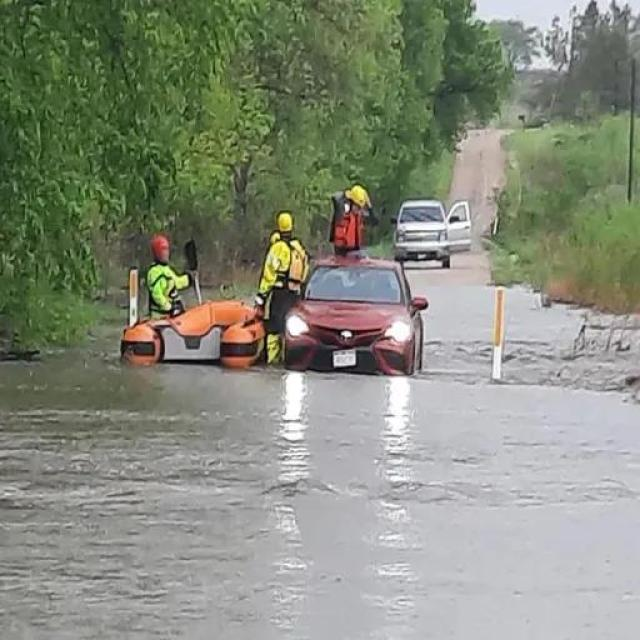rescuer: (254, 210, 306, 380), (144, 228, 190, 314), (326, 179, 375, 256)
